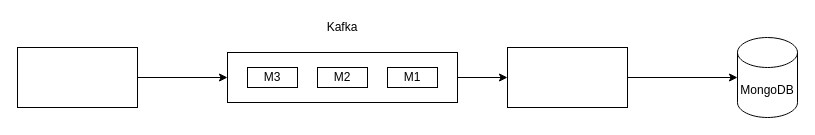
Some shapes in this 815 by 135 pixel diagram are drawn without their labels. The centre of each missing label's shape, as x and y in pixels:
.NET Process TPL Dataflow: the point at 567,77
Upstream: the point at 77,77
